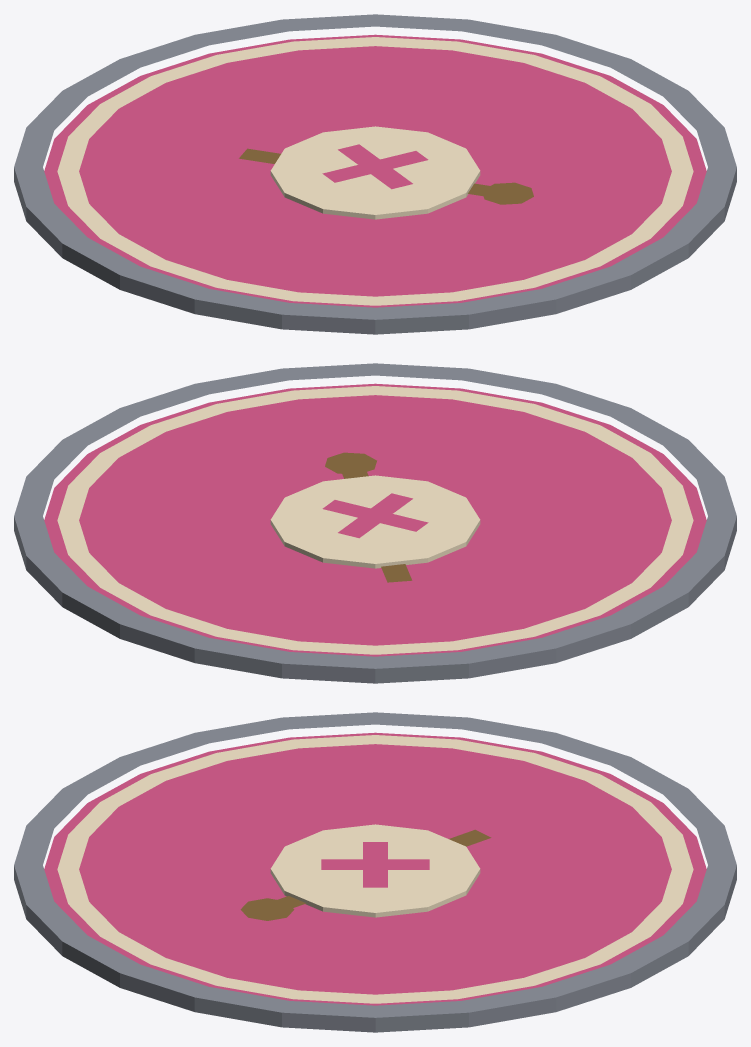
The model's file is cleric_common_area.glb.
3 renders of one model, top to bottom at view 1: azimuth 30°, elevation 25°; view 2: azimuth 150°, elevation 25°; view 3: azimuth 270°, elevation 25°, orthographic.
Visible parts, largest first — view 1: cleric_common_area; view 2: cleric_common_area; view 3: cleric_common_area.
Boxes of the visible parts, x1,y1,x2,y2 form: cleric_common_area: (14,14,736,334); cleric_common_area: (14,363,736,683); cleric_common_area: (14,712,736,1032).
Size of the model in its own units: 2 by 0.046 by 2.
Materials: 1 (1 with a texture image).
